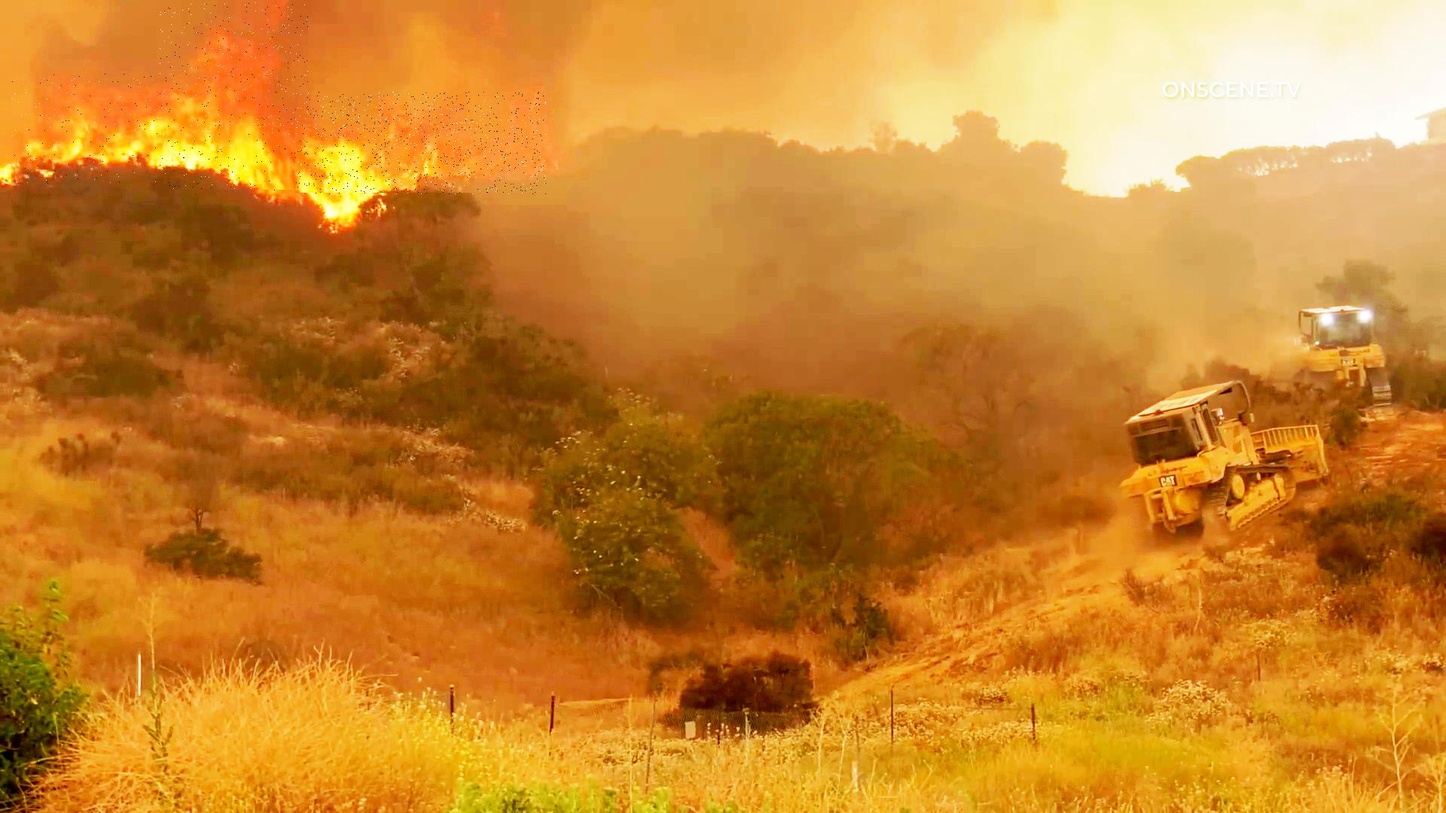fire: (160, 3, 308, 192), (296, 92, 547, 195), (12, 72, 165, 184)
